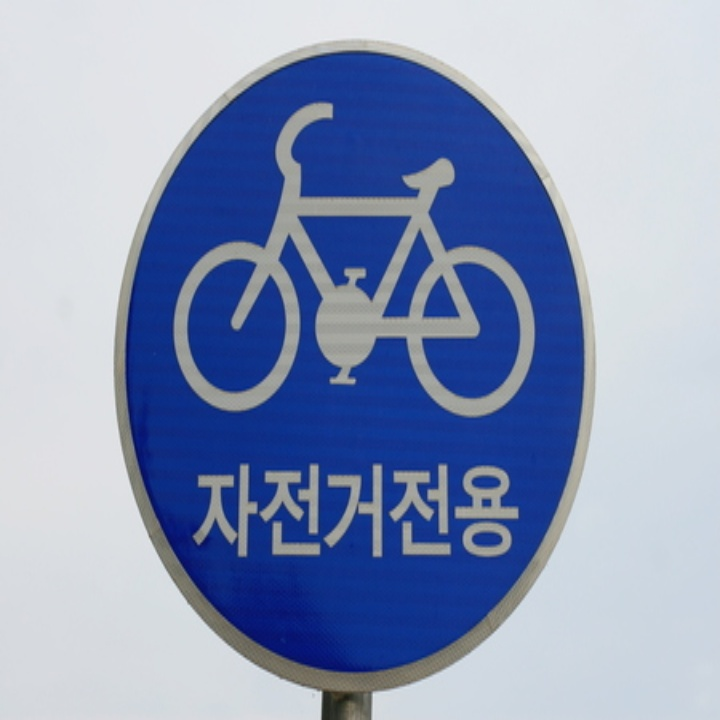bicycle: (172, 98, 537, 416)
